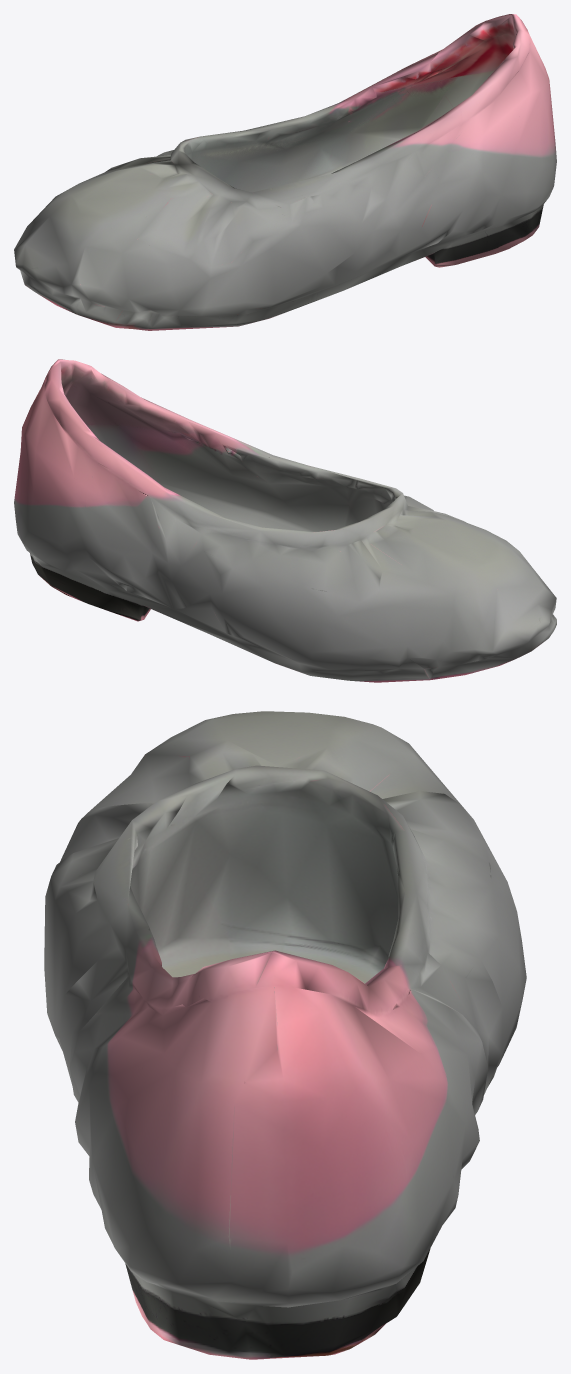
File: regr_fallen_slipper.fbx
The picture shows the model from 3 angles, top to bottom: view 1: azimuth 30°, elevation 25°; view 2: azimuth 150°, elevation 25°; view 3: azimuth 270°, elevation 25°; orthographic projection. The views are drawn at different scales.
Visible parts, largest first — view 1: Mesh1.0; view 2: Mesh1.0; view 3: Mesh1.0.
Part boxes in pixels (x1,y1,x2,y2): Mesh1.0: [14, 14, 556, 330]; Mesh1.0: [14, 359, 556, 682]; Mesh1.0: [44, 711, 526, 1359].
Size of the model in its own units: 190 by 71.02 by 76.43.
1 material, 1 textured.
